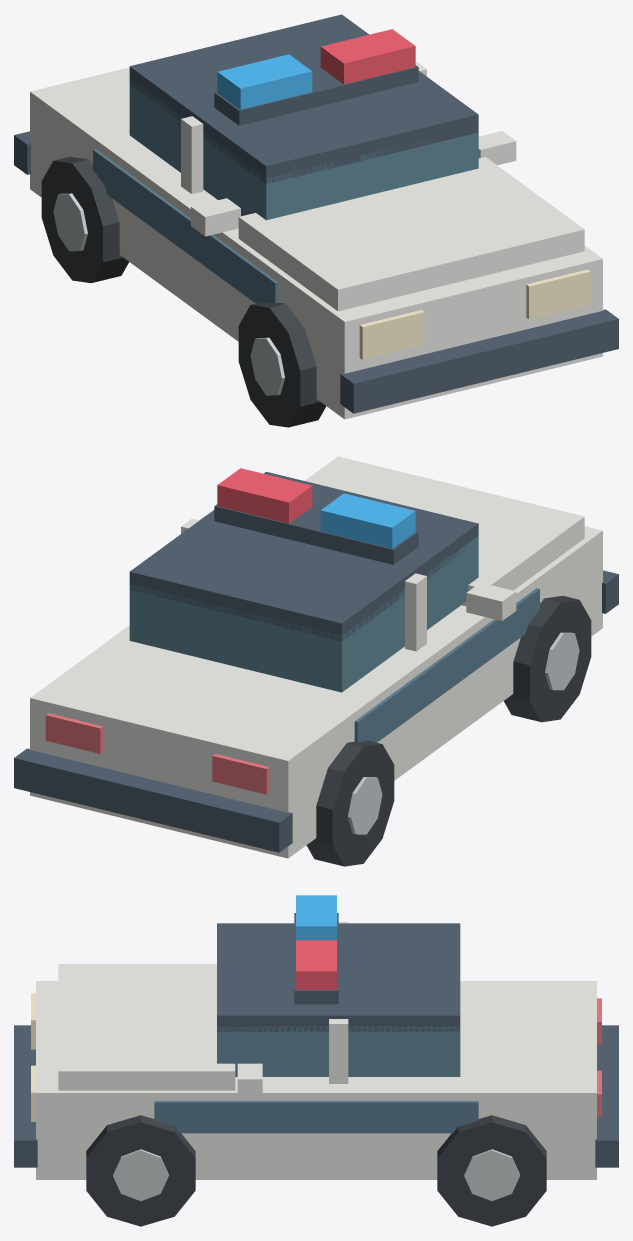
Rendered from patrol_car.glb.
The picture shows the model from 3 angles, top to bottom: view 1: azimuth 30°, elevation 25°; view 2: azimuth 150°, elevation 25°; view 3: azimuth 270°, elevation 25°; orthographic projection. The views are drawn at different scales.
Parts seen in each view (by area): view 1: body, hood, roof, cabin, wheel (×2), bumper_front, side_band, headlight (×2), lightbar_base, light_red, light_blue, hub (×2) (+3 smaller); view 2: body, roof, cabin, wheel (×2), hood, bumper_rear, side_band, lightbar_base, light_red, light_blue, taillight (×2), hub (×2) (+3 smaller); view 3: body, roof, hood, wheel (×2), cabin, side_band, hub (×2), bumper_rear, bumper_front, light_red, light_blue, pillar (+2 smaller).
Part boxes in pixels (bbox=[...]): body: bbox=[30, 67, 602, 419]; hood: bbox=[238, 156, 584, 311]; roof: bbox=[129, 14, 478, 184]; cabin: bbox=[129, 79, 478, 220]; wheel (×2): bbox=[41, 156, 326, 427]; bumper_front: bbox=[340, 309, 618, 413]; side_band: bbox=[93, 149, 278, 303]; headlight (×2): bbox=[359, 269, 590, 359]; lightbar_base: bbox=[214, 65, 418, 125]; light_red: bbox=[320, 29, 415, 84]; light_blue: bbox=[217, 54, 312, 109]; hub (×2): bbox=[53, 193, 284, 395]; body: bbox=[30, 526, 602, 858]; roof: bbox=[129, 471, 478, 641]; cabin: bbox=[129, 535, 478, 692]; wheel (×2): bbox=[306, 596, 591, 866]; hood: bbox=[305, 456, 584, 606]; bumper_rear: bbox=[14, 748, 292, 852]; side_band: bbox=[354, 588, 539, 742]; lightbar_base: bbox=[214, 504, 418, 564]; light_red: bbox=[217, 468, 312, 523]; light_blue: bbox=[320, 493, 415, 548]; taillight (×2): bbox=[45, 713, 269, 794]; hub (×2): bbox=[348, 632, 579, 834]; body: bbox=[36, 981, 596, 1179]; roof: bbox=[217, 923, 460, 1031]; hood: bbox=[58, 964, 235, 1090]; wheel (×2): bbox=[86, 1115, 546, 1226]; cabin: bbox=[217, 1026, 460, 1076]; side_band: bbox=[154, 1101, 478, 1133]; hub (×2): bbox=[113, 1149, 519, 1201]; bumper_rear: bbox=[595, 1025, 618, 1167]; bumper_front: bbox=[14, 1025, 37, 1167]; light_red: bbox=[296, 940, 336, 989]; light_blue: bbox=[296, 895, 336, 940]; pillar: bbox=[329, 1019, 348, 1083].
Bounding box in the file's own units: 2.17 × 1.72 × 4.1.
